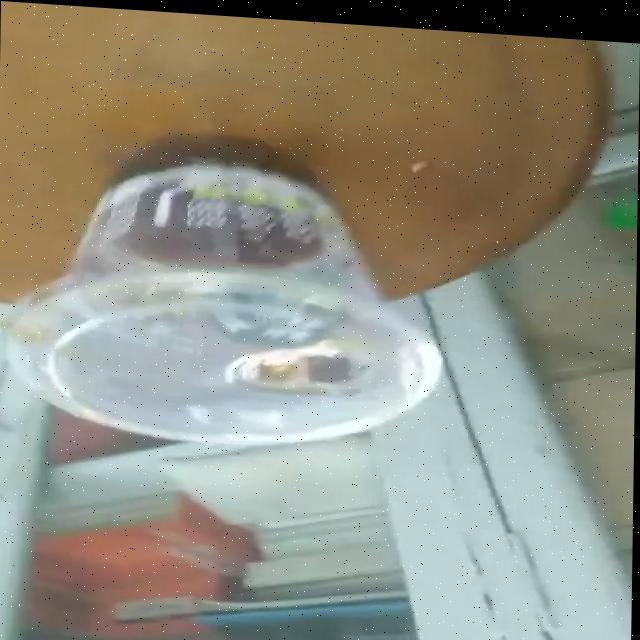cup: (60, 159, 374, 302)
